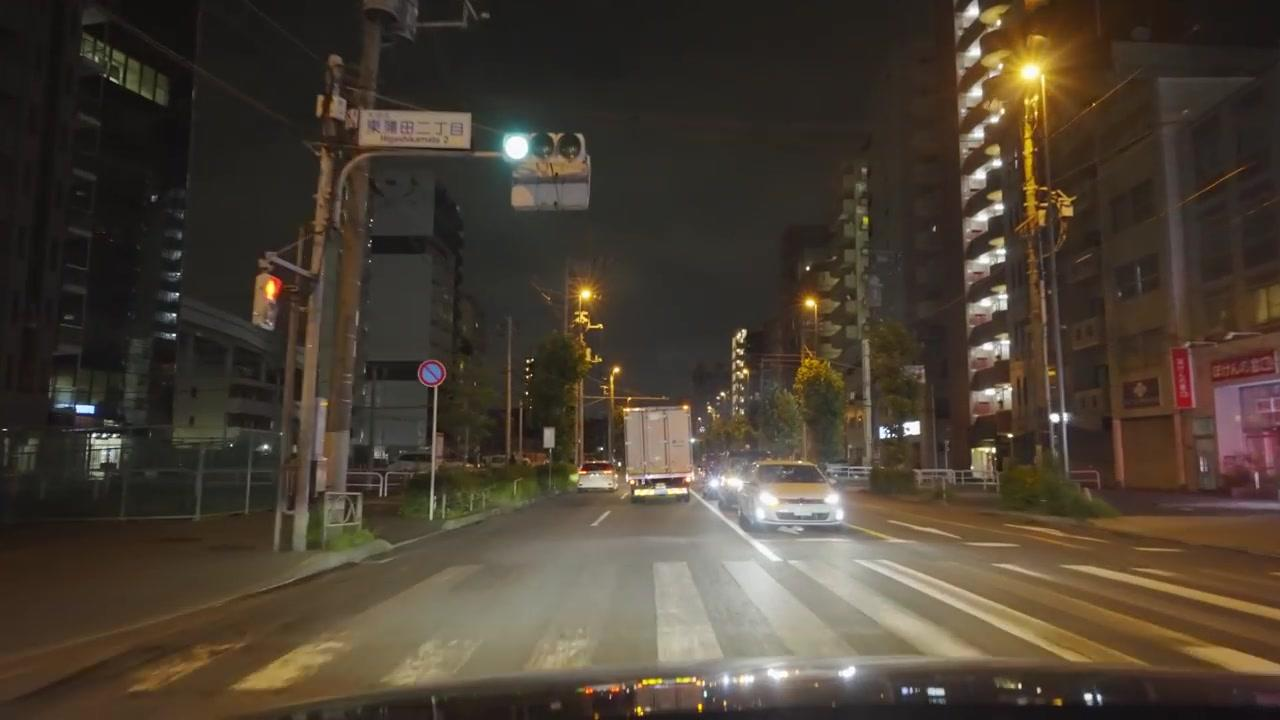car: (738, 458, 846, 536), (715, 456, 761, 510), (574, 458, 620, 494), (701, 458, 727, 503), (825, 463, 870, 487)
traffic light: (250, 273, 283, 331), (523, 356, 534, 381)
truck: (620, 404, 693, 504)
